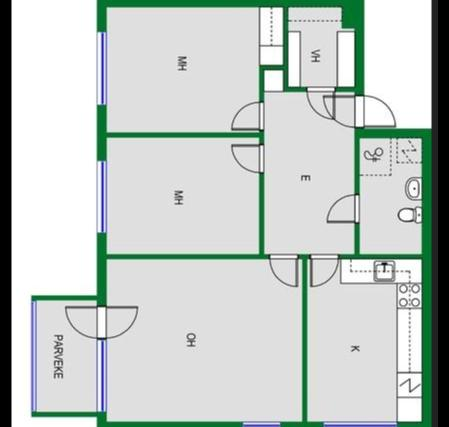door: (96, 300, 140, 339), (322, 92, 364, 129), (62, 303, 104, 340), (358, 93, 400, 128), (324, 190, 364, 226), (268, 250, 302, 290), (306, 252, 340, 289), (305, 82, 335, 122), (230, 143, 265, 176), (228, 100, 266, 130)
window: (92, 26, 110, 109), (92, 156, 110, 237), (28, 298, 40, 413), (93, 337, 109, 412), (319, 419, 400, 427), (239, 418, 283, 427)
